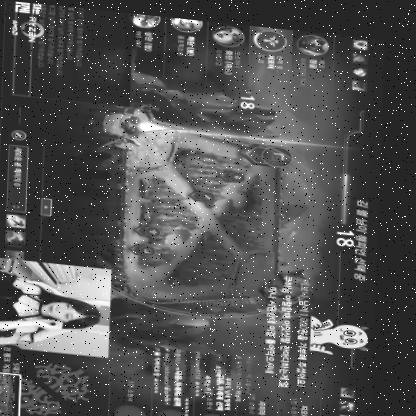donation: (265, 267, 374, 388)
streamer: (0, 267, 104, 348)
